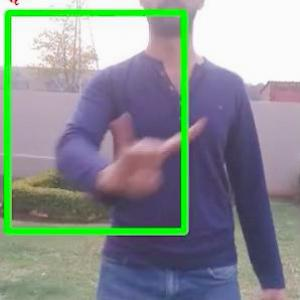takeoff-hand: (103, 109, 211, 200)
